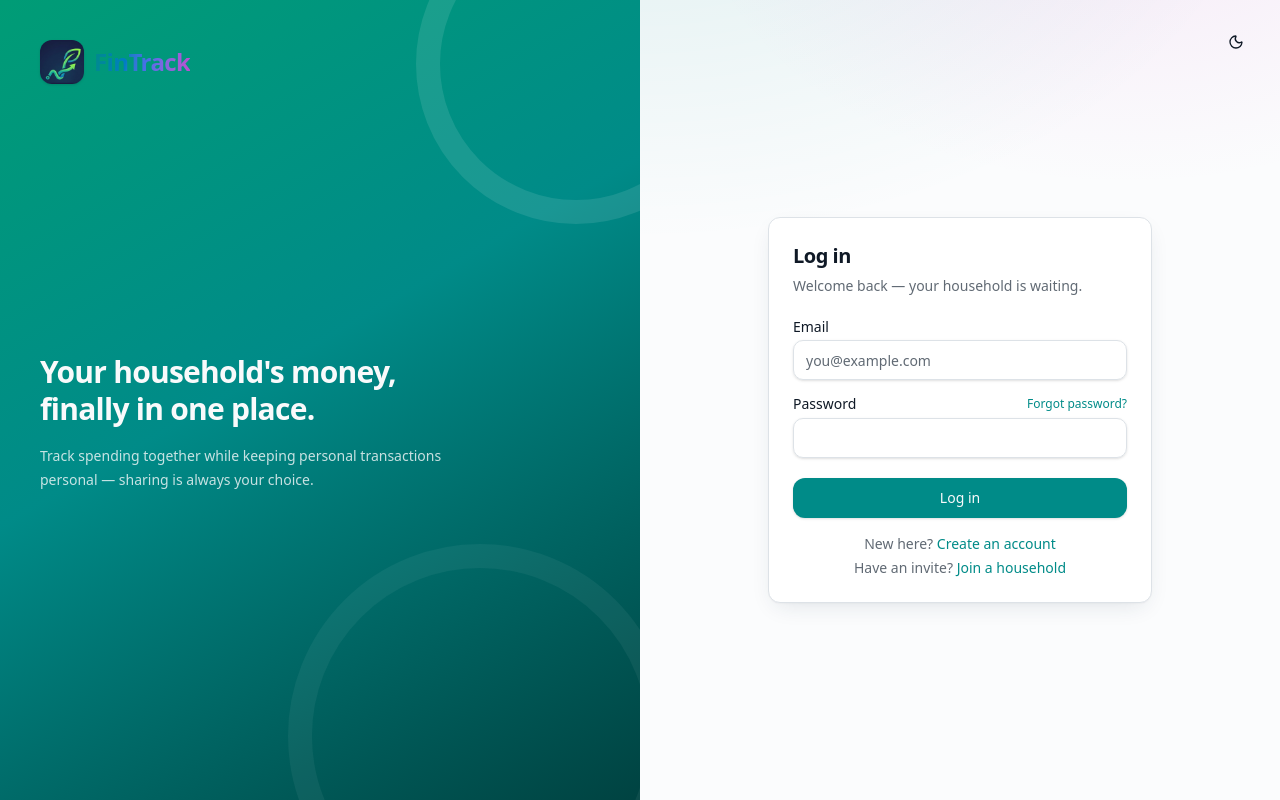
Test: LoginPage › shows the generic message on 401 (wrong email or password)
In the field labelled "Email": (960, 360) [793,340,1127,380], type "jane@example.com"
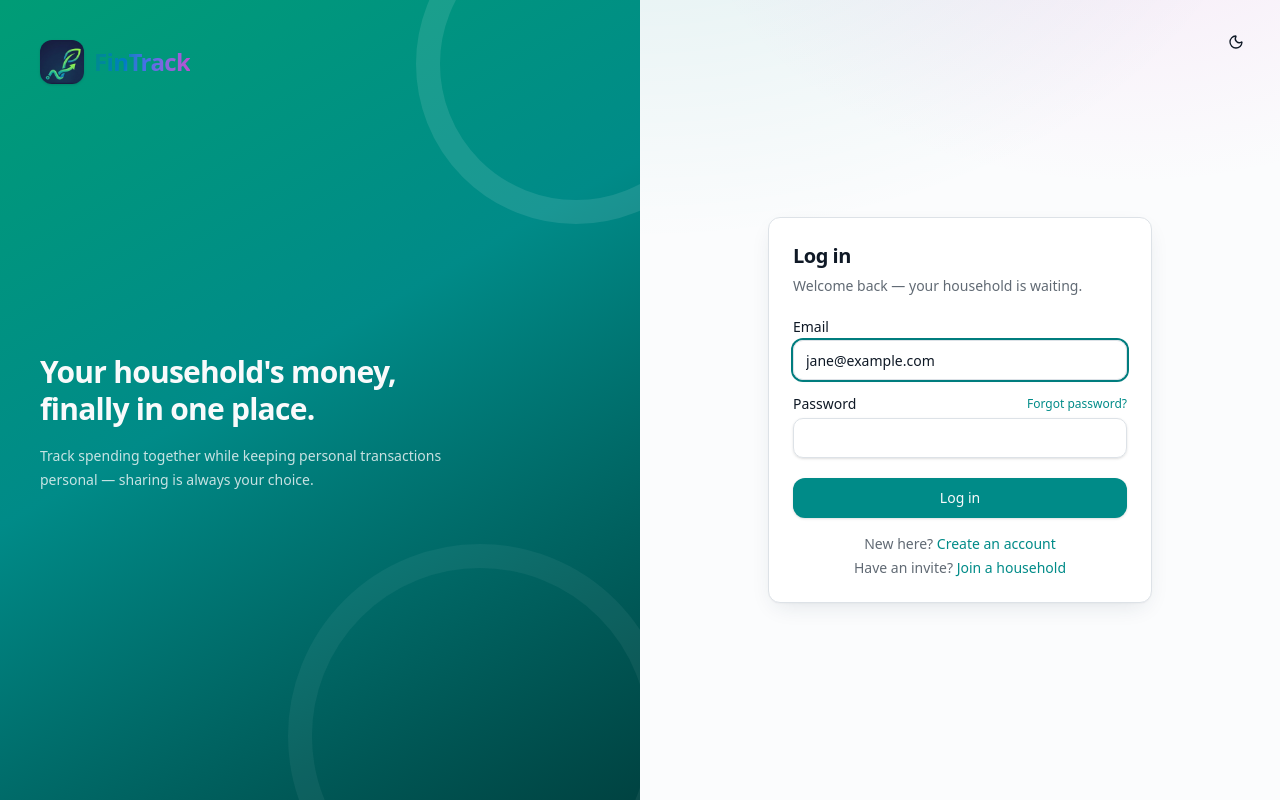
In the password field labelled "Password": (960, 438) [793,418,1127,458], type "wrong-password-here"
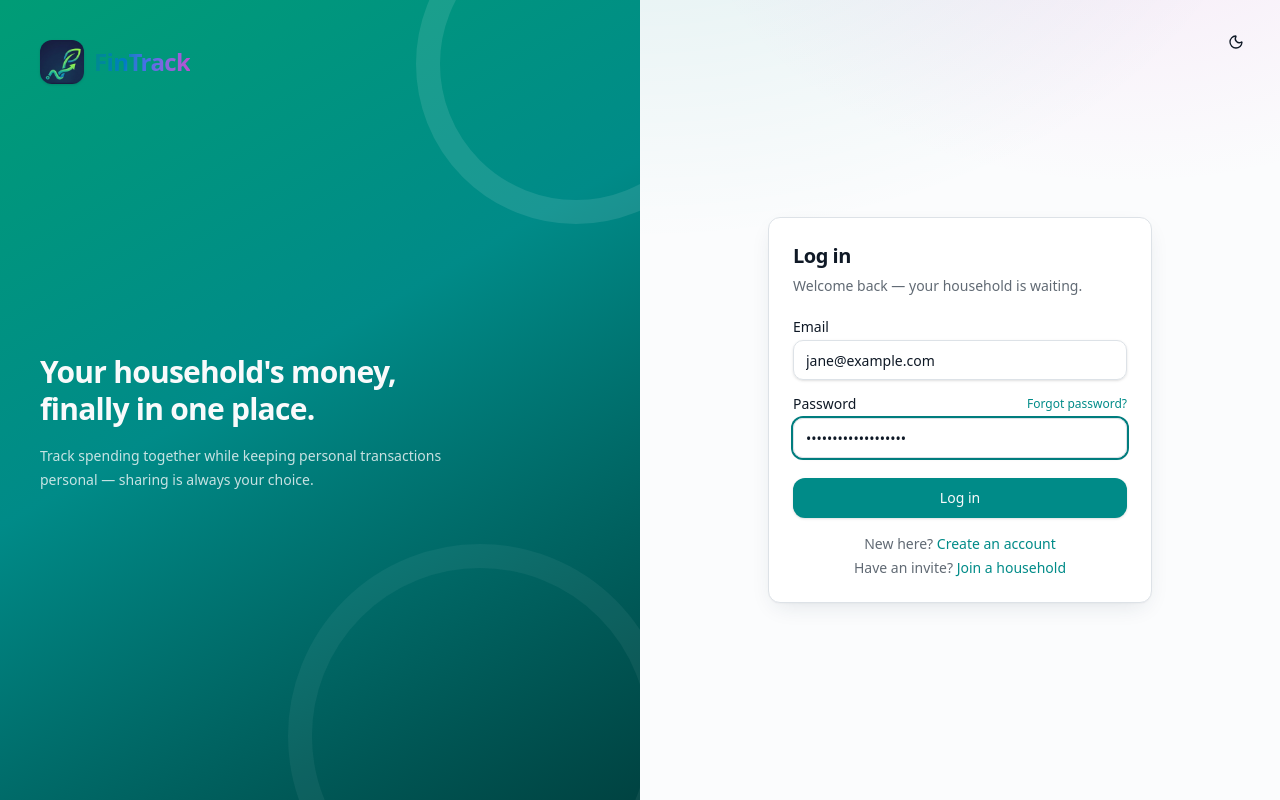
Click the button "Log in": (960, 498) [793,478,1127,518]
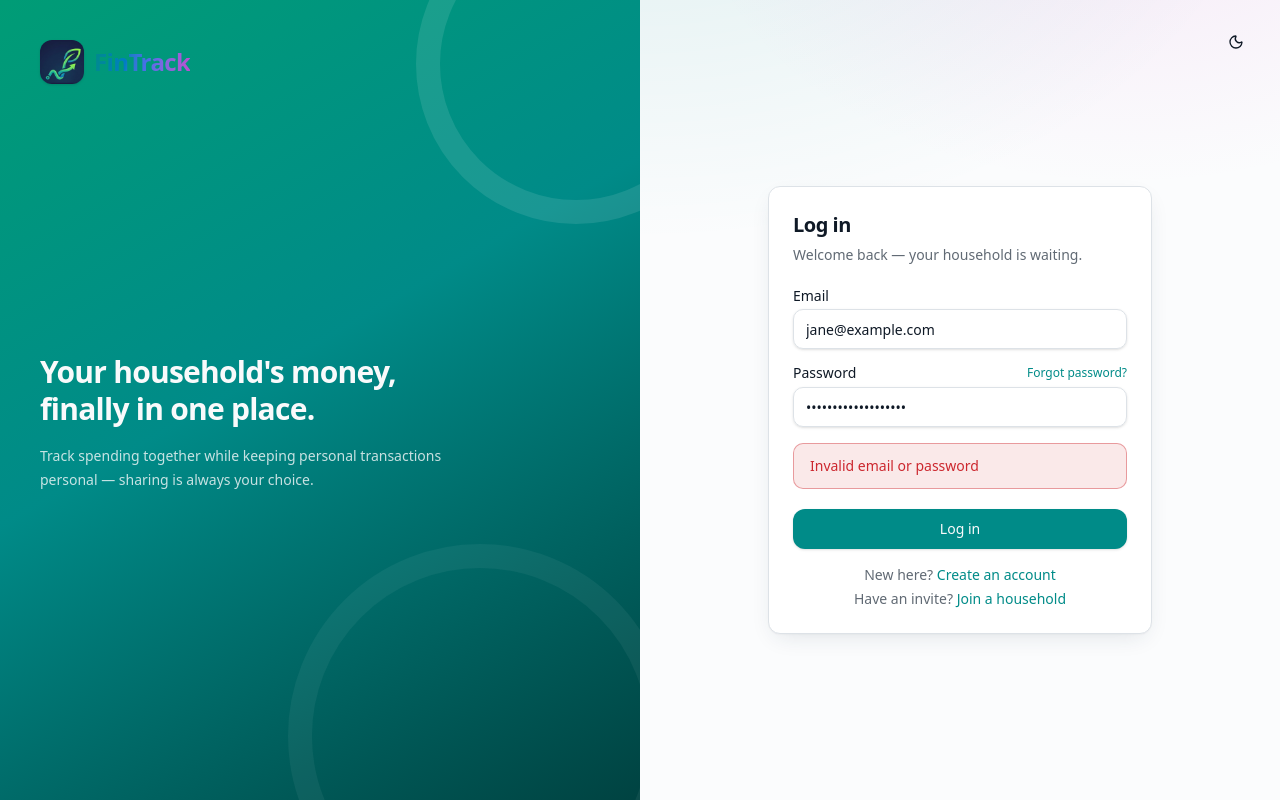
expect the text "Invalid email or password" is shown: met, box [793,443,1127,489]
